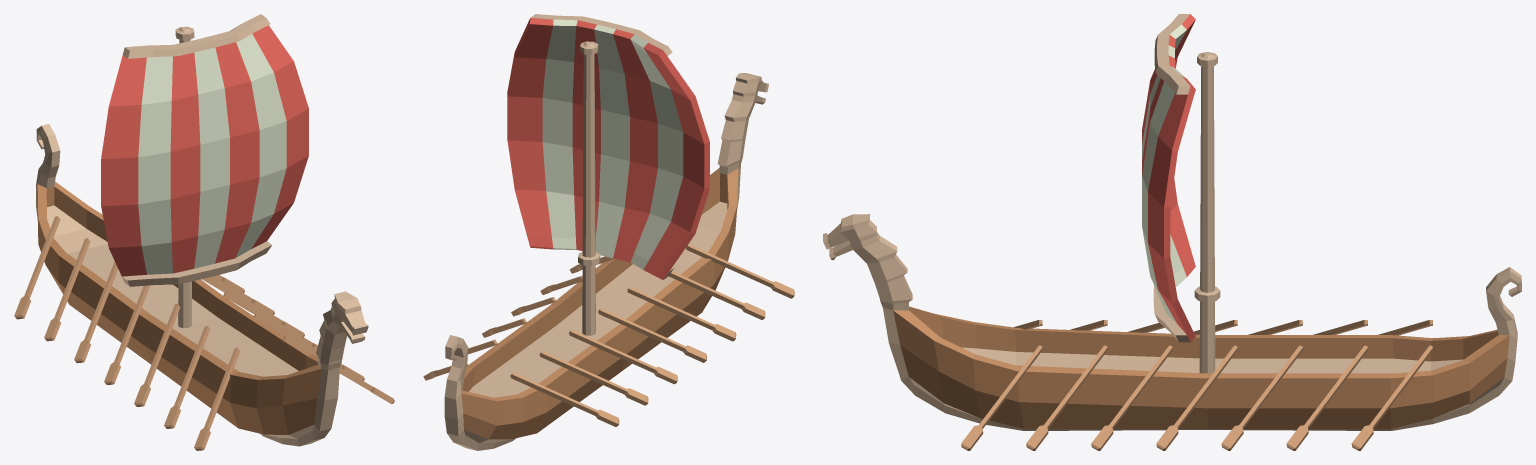
The model's file is Viking_boat.glb.
The picture shows the model from 3 angles, left to right: view 1: azimuth 30°, elevation 25°; view 2: azimuth 150°, elevation 25°; view 3: azimuth 270°, elevation 25°; orthographic projection. The views are drawn at different scales.
Parts seen in each view (by area): view 1: Sail, Viking_Ship; view 2: Viking_Ship, Sail; view 3: Viking_Ship, Sail.
Boxes of the visible parts, bbox=[...] form: Sail: bbox=[101, 14, 308, 286]; Viking_Ship: bbox=[14, 26, 394, 450]; Viking_Ship: bbox=[423, 41, 794, 450]; Sail: bbox=[507, 14, 709, 279]; Viking_Ship: bbox=[823, 52, 1521, 450]; Sail: bbox=[1142, 14, 1195, 342].
Size of the model in its own units: 157 by 251 by 420.
